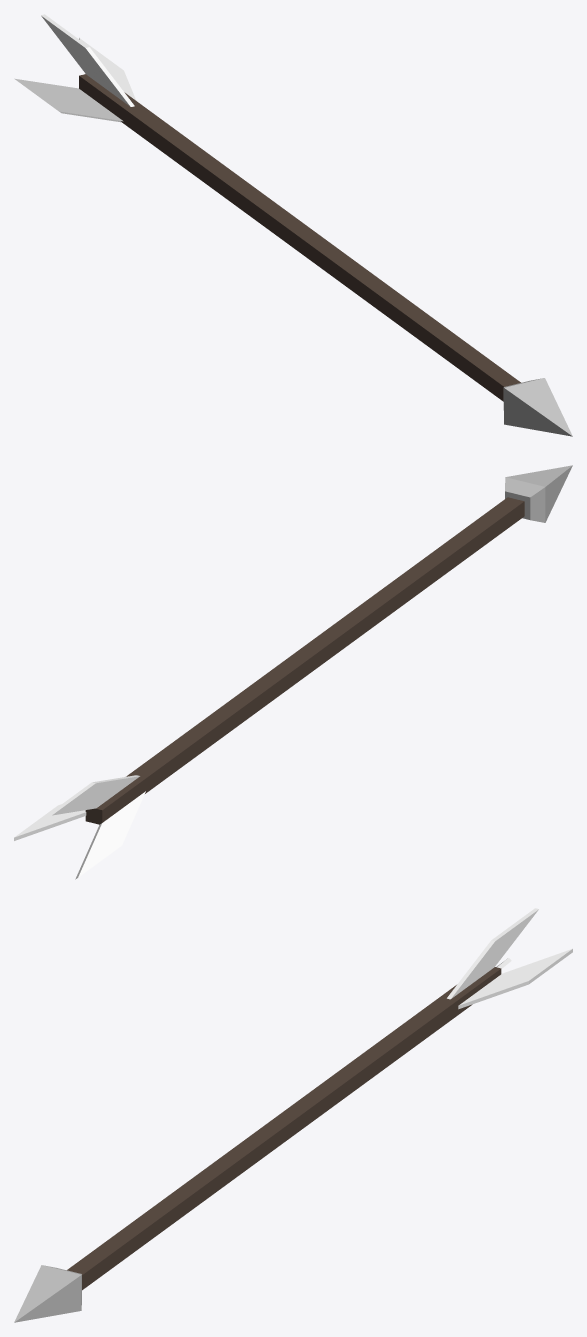
The model's file is FLECHA.fbx.
3 views of the same model, one above another, from view 1: azimuth 30°, elevation 25°; view 2: azimuth 150°, elevation 25°; view 3: azimuth 330°, elevation 25° (orthographic).
Parts seen in each view (by area): view 1: Flecha; view 2: Flecha; view 3: Flecha.
Part boxes in pixels (bbox=[...]): Flecha: bbox=[14, 14, 572, 436]; Flecha: bbox=[14, 465, 572, 879]; Flecha: bbox=[14, 908, 572, 1322].
Size of the model in its own units: 67.11 by 58.53 by 948.
